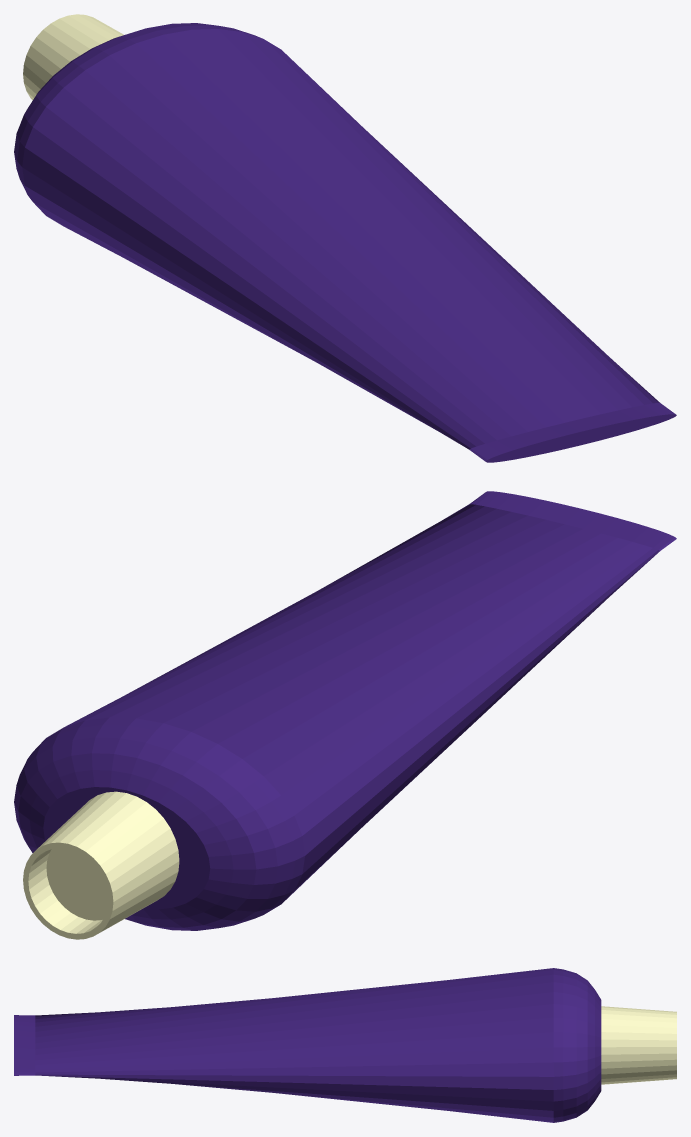
Rendered from odol.fbx.
3 renders of one model, top to bottom at view 1: azimuth 30°, elevation 25°; view 2: azimuth 150°, elevation 25°; view 3: azimuth 270°, elevation 25°, orthographic. The views are drawn at different scales.
Parts seen in each view (by area): view 1: Cylinder; view 2: Cylinder; view 3: Cylinder.
Part boxes in pixels (box(x1,y1,x2,y2)): Cylinder: box(14, 14, 676, 462); Cylinder: box(14, 491, 676, 939); Cylinder: box(14, 968, 676, 1122).
Bounding box in the file's own units: 127 × 83.97 × 398.
